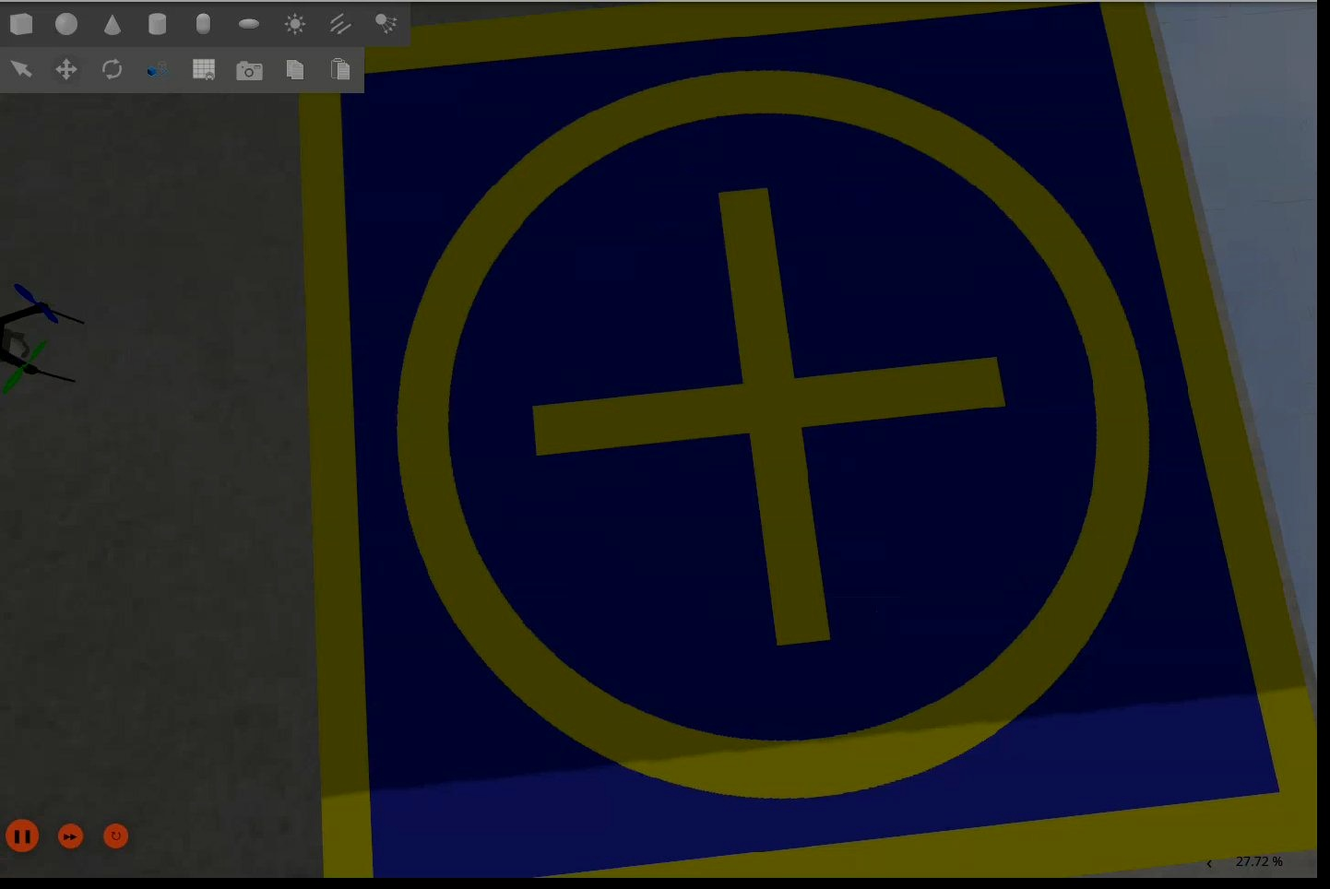small_base: (296, 2, 1320, 880)
